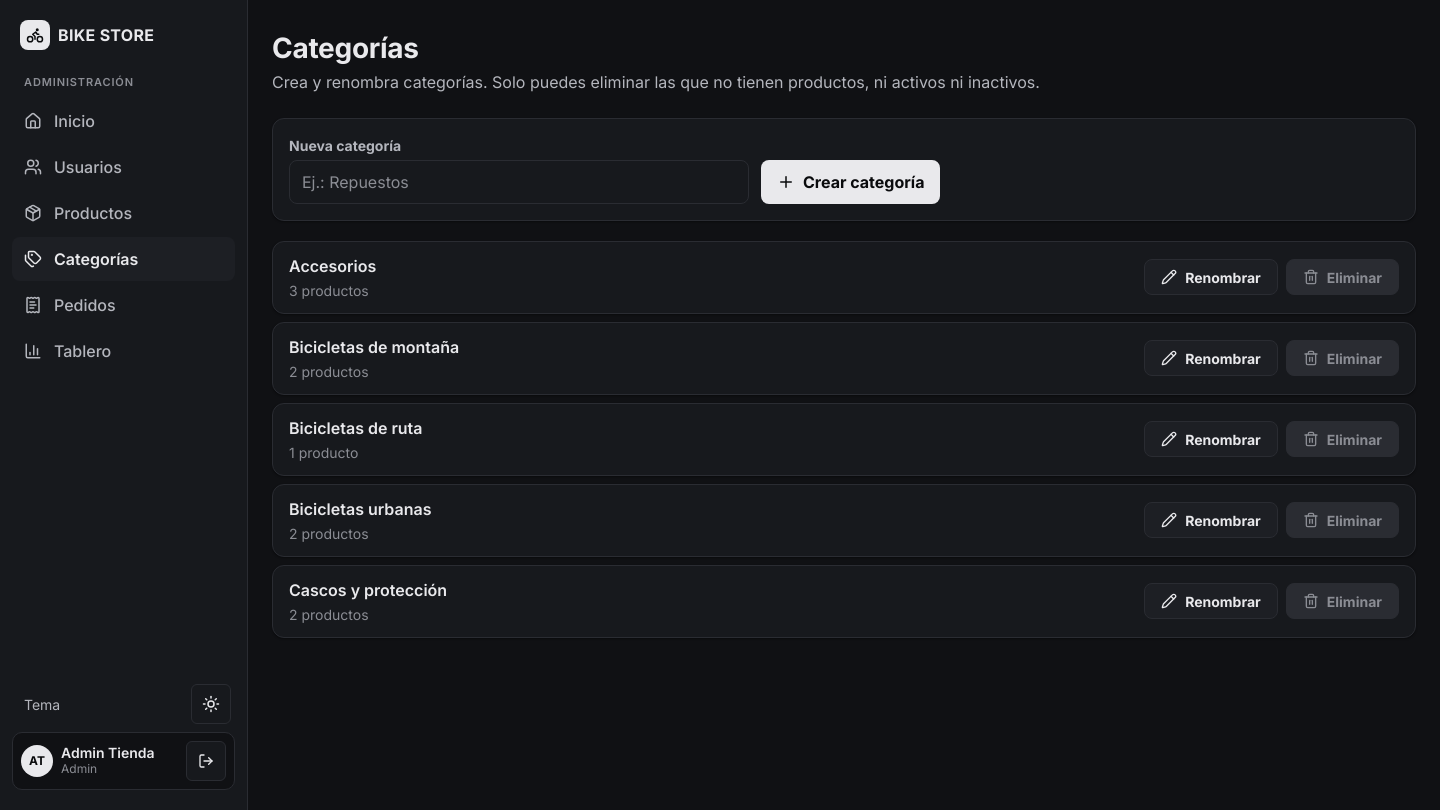
Crear › valida el nombre vacío sin llamar a la API
Click the button "Crear categoría": (851, 182) [761,160,940,204]
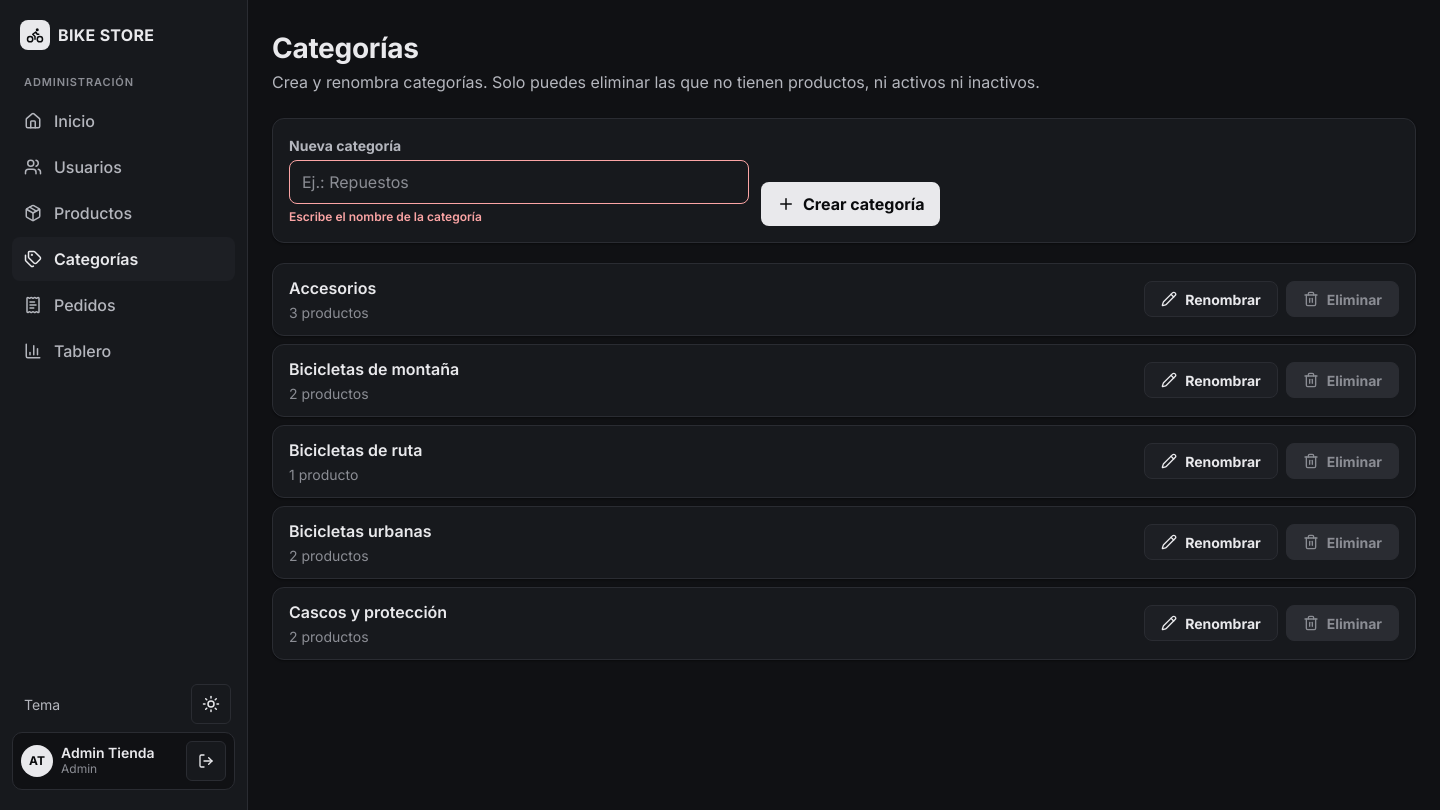
Expected: the text "Escribe el nombre de la categoría" is shown, [289,209,482,224]
